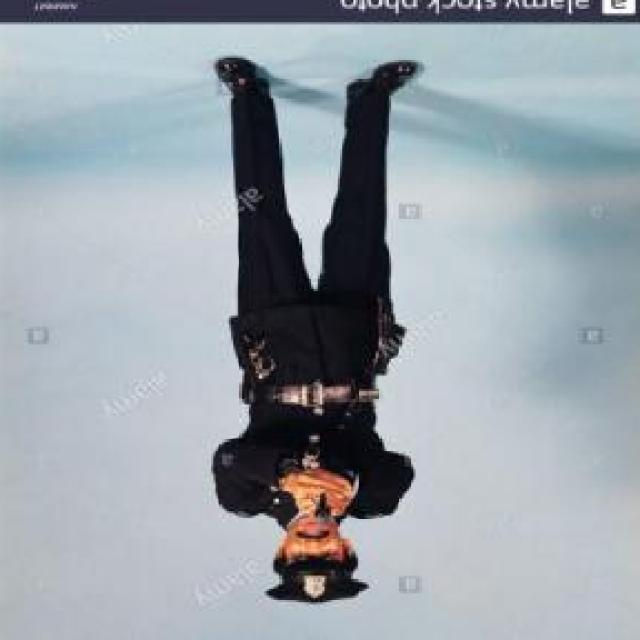pistol: (309, 495, 338, 531)
